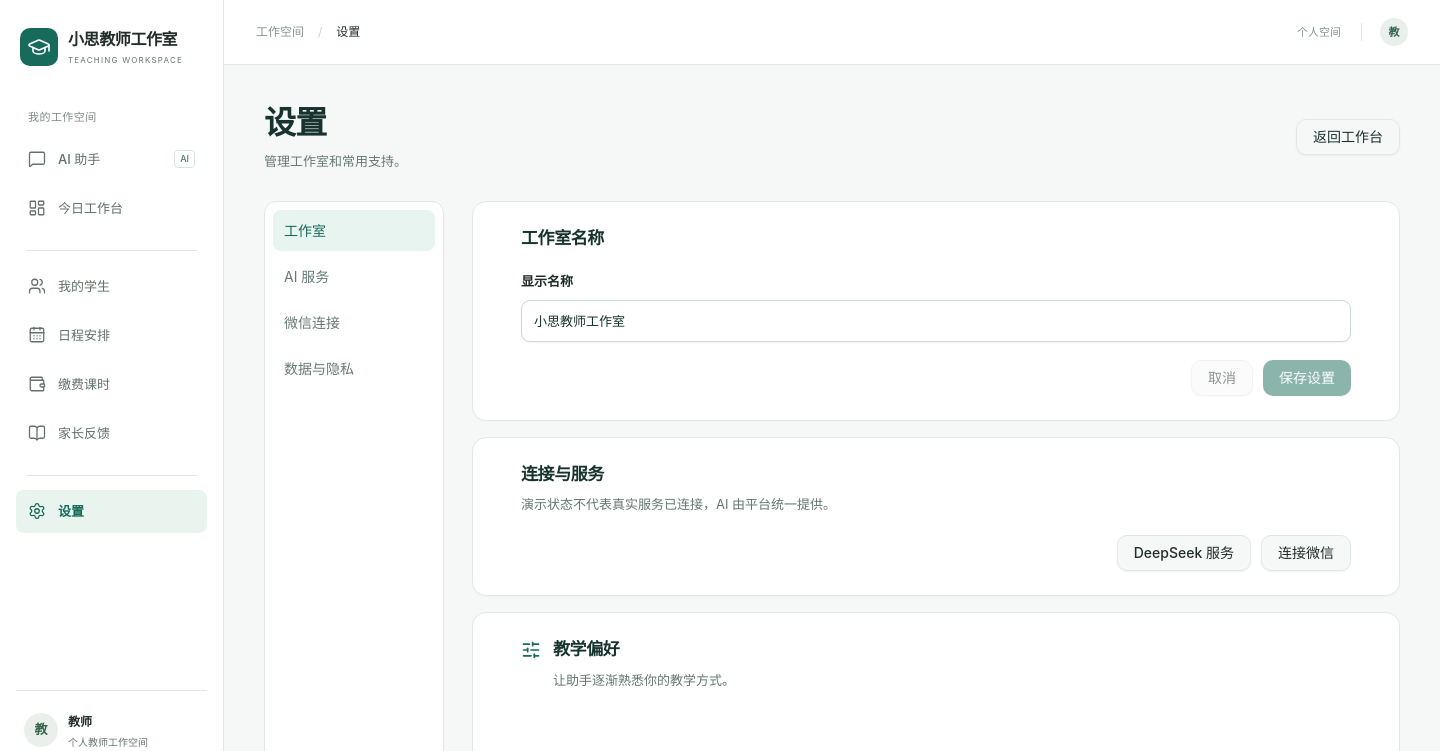
it: isolated preview behaviors › updates the studio name in the current example UI
Replace the text in the field labelled "显示名称" with "演示工作室" at (936, 321), box x1=521 y1=300 x2=1351 y2=342
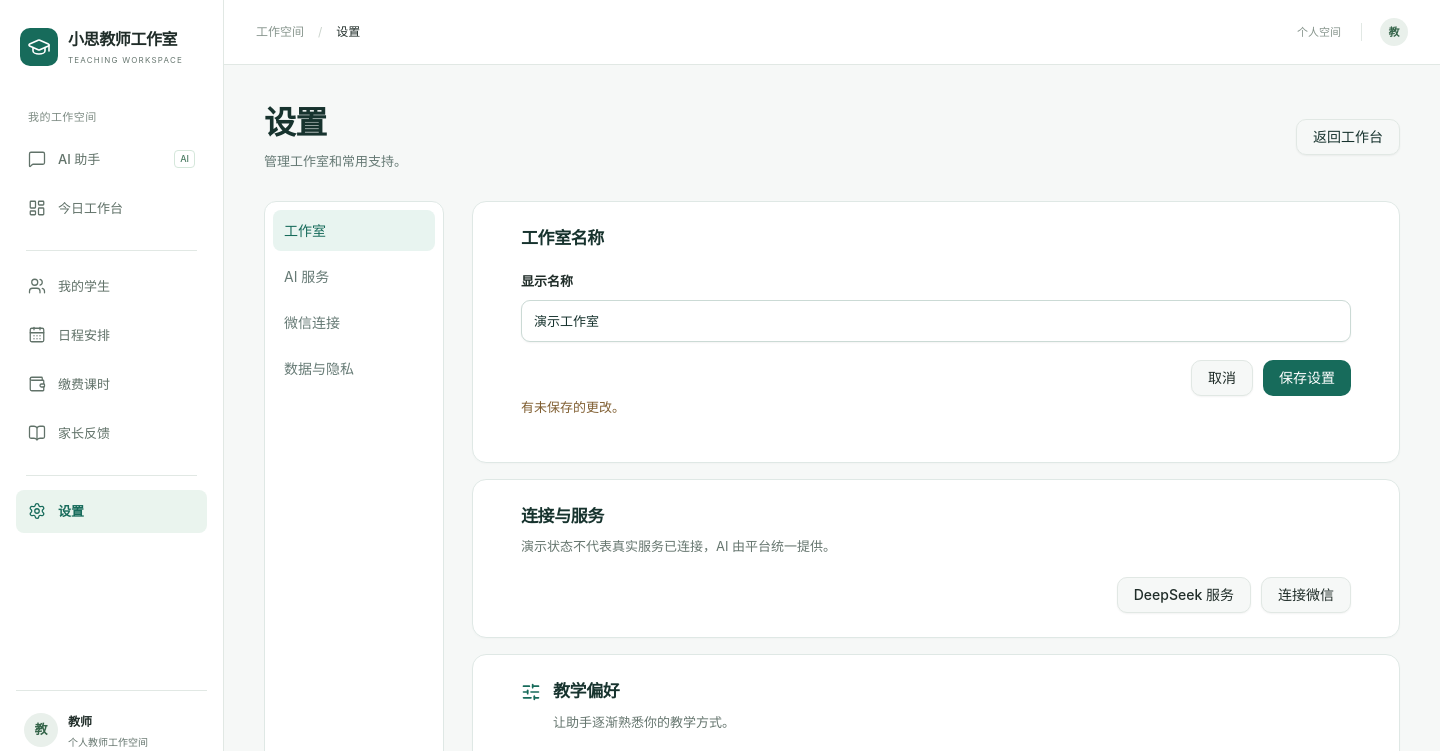
Click the button "保存设置" at (1307, 378), box x1=1263 y1=360 x2=1351 y2=396
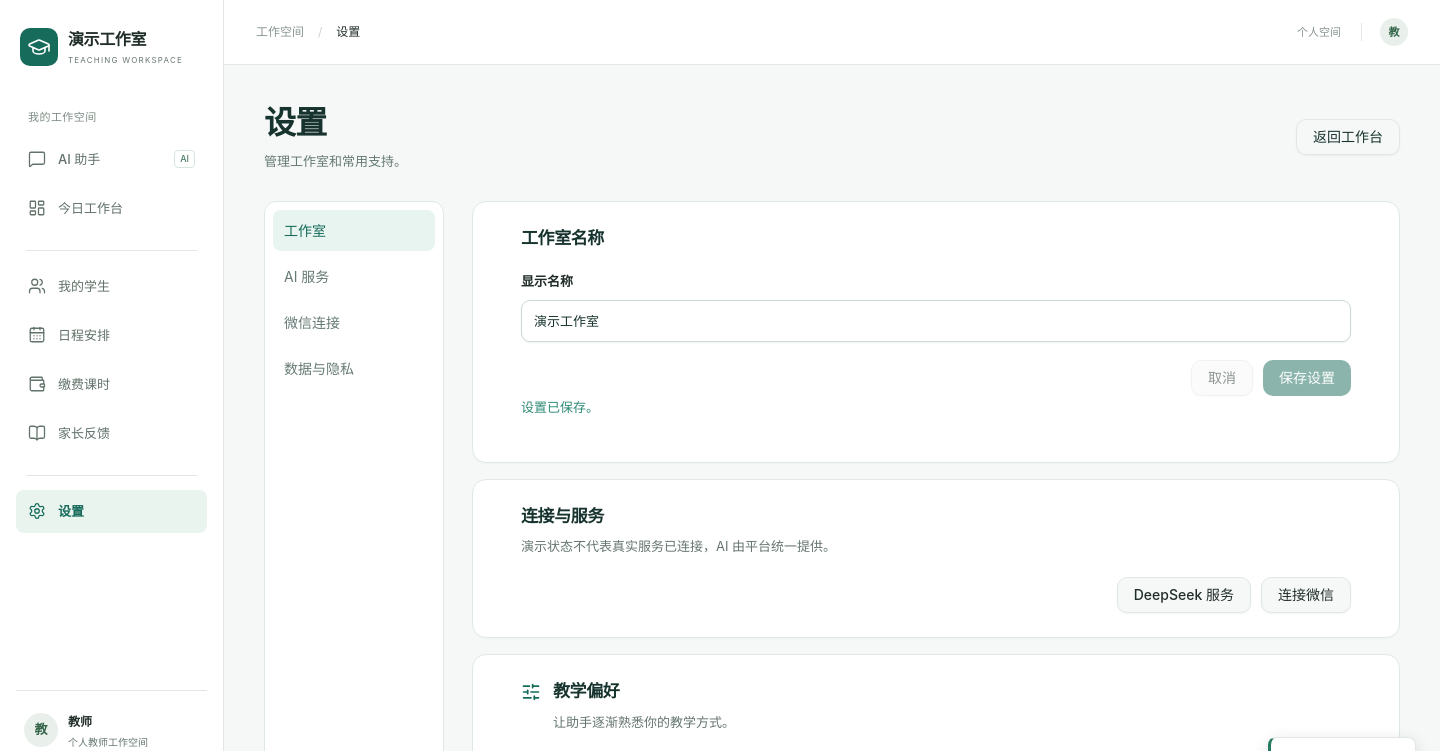
Check: the text "演示工作室" is shown, box x1=68 y1=29 x2=146 y2=49
